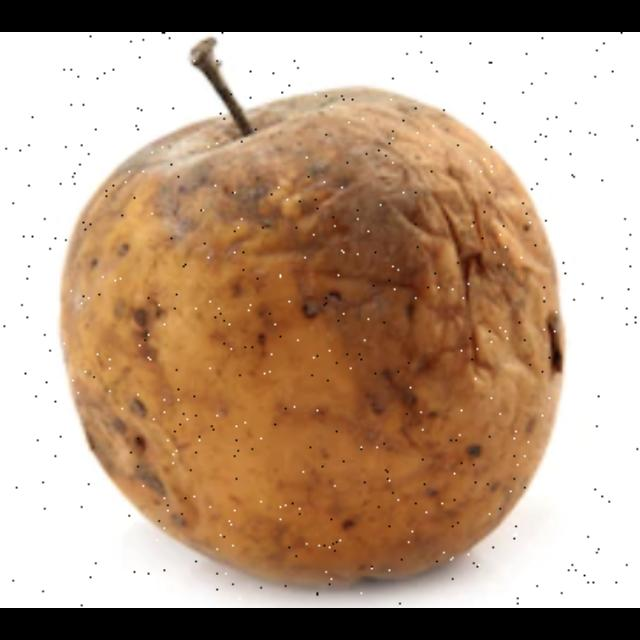Apel Tidak Segar: (51, 73, 573, 603)
